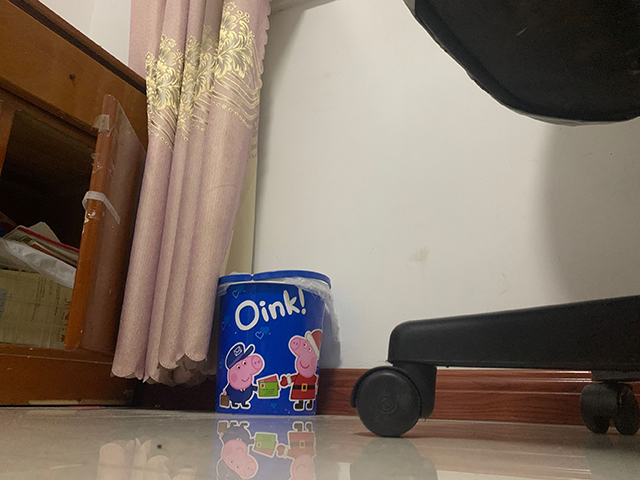cabinet: (1, 1, 149, 408)
curtain: (109, 1, 270, 389)
trashcan: (215, 268, 333, 418)
